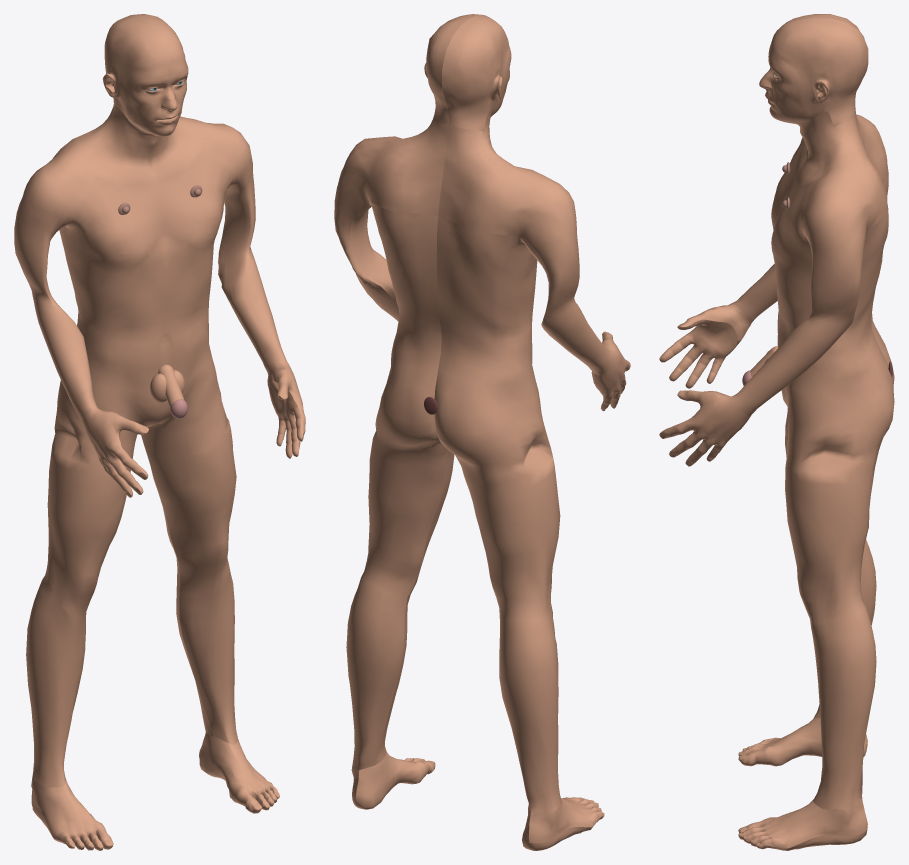
The model's file is body-junger-erwachsener-maennlich-real-v3.glb.
The picture shows the model from 3 angles, left to right: view 1: azimuth 30°, elevation 25°; view 2: azimuth 150°, elevation 25°; view 3: azimuth 270°, elevation 25°; orthographic projection.
Visible parts, largest first — view 1: real-human-body; view 2: real-human-body; view 3: real-human-body.
Part boxes in pixels (x1,y1,x2,y2): real-human-body: (14,14,305,850); real-human-body: (334,14,630,850); real-human-body: (659,14,894,850).
Size of the model in its own units: 0.5339 by 1.72 by 0.4679.
Materials: 8 (1 with a texture image).
